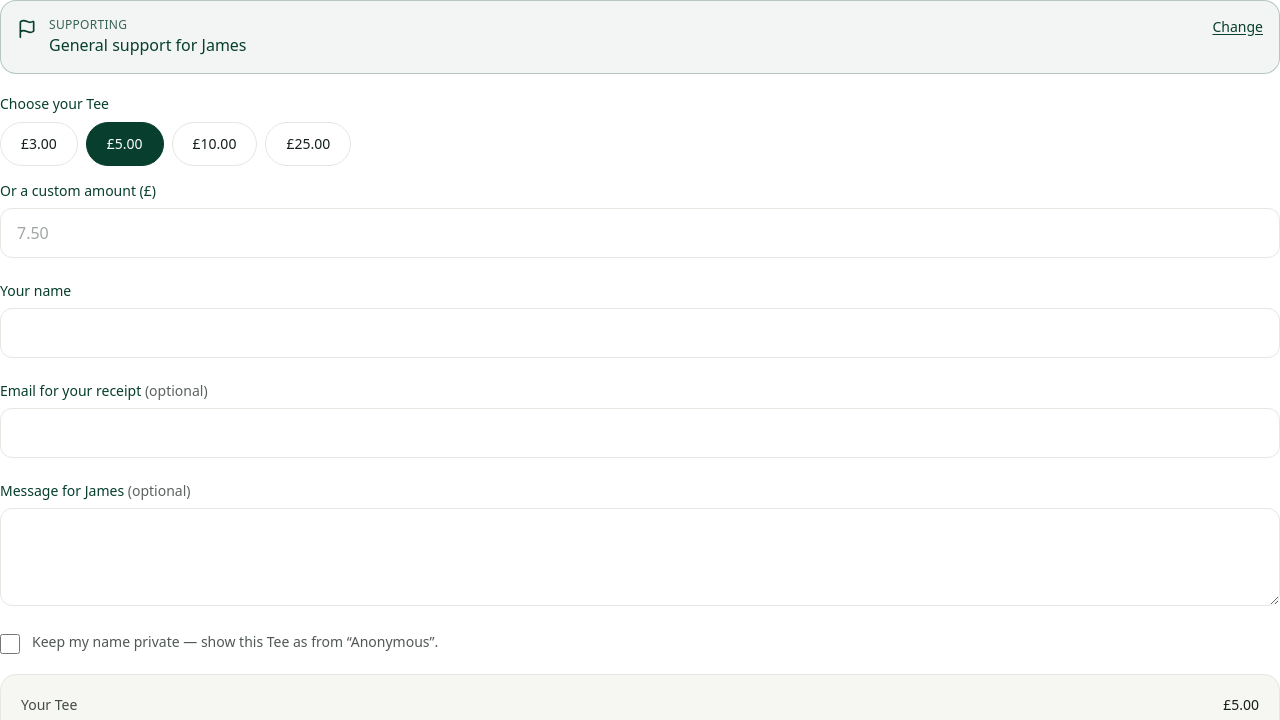
Scenario: GiftComposer target scoping › defaults to general support and can switch to a goal via Change
Expected: the text "General support for James" is shown, [49,34,246,56]
Click the button "Change": (1238, 27) [1212,17,1263,37]
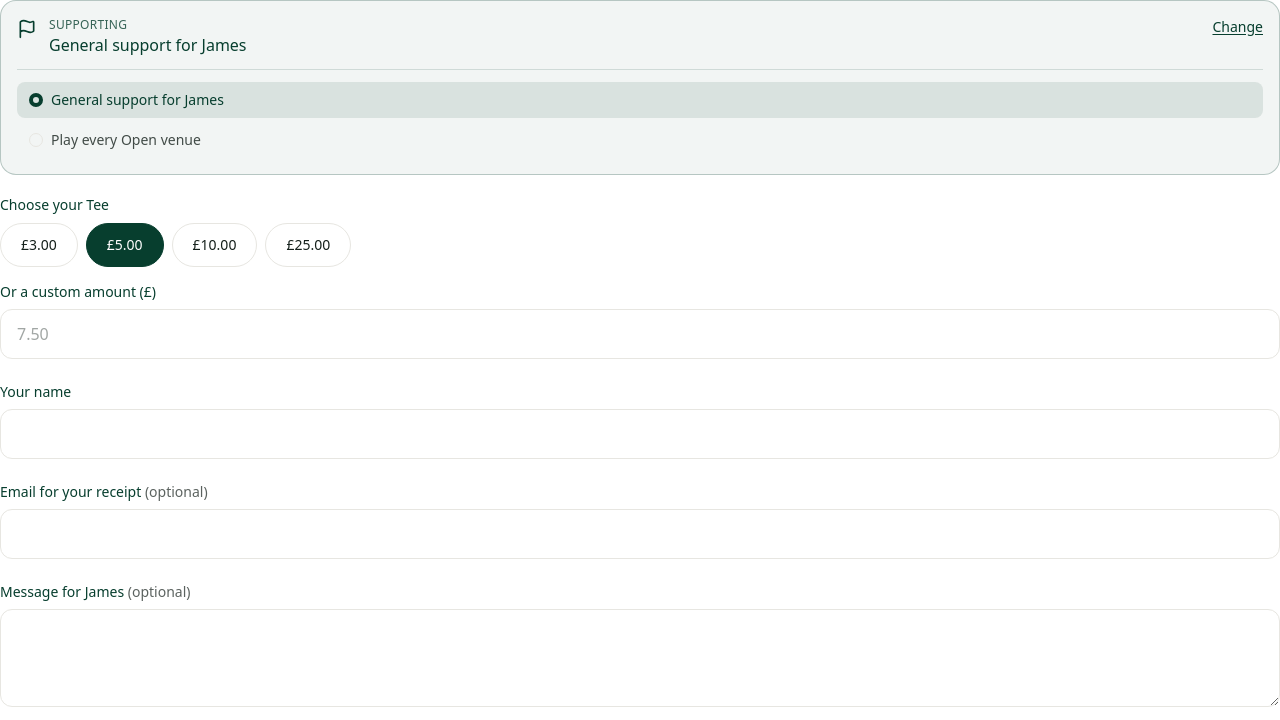
Click the radio button labelled "Play every Open venue": (126, 140) [17,122,1263,158]
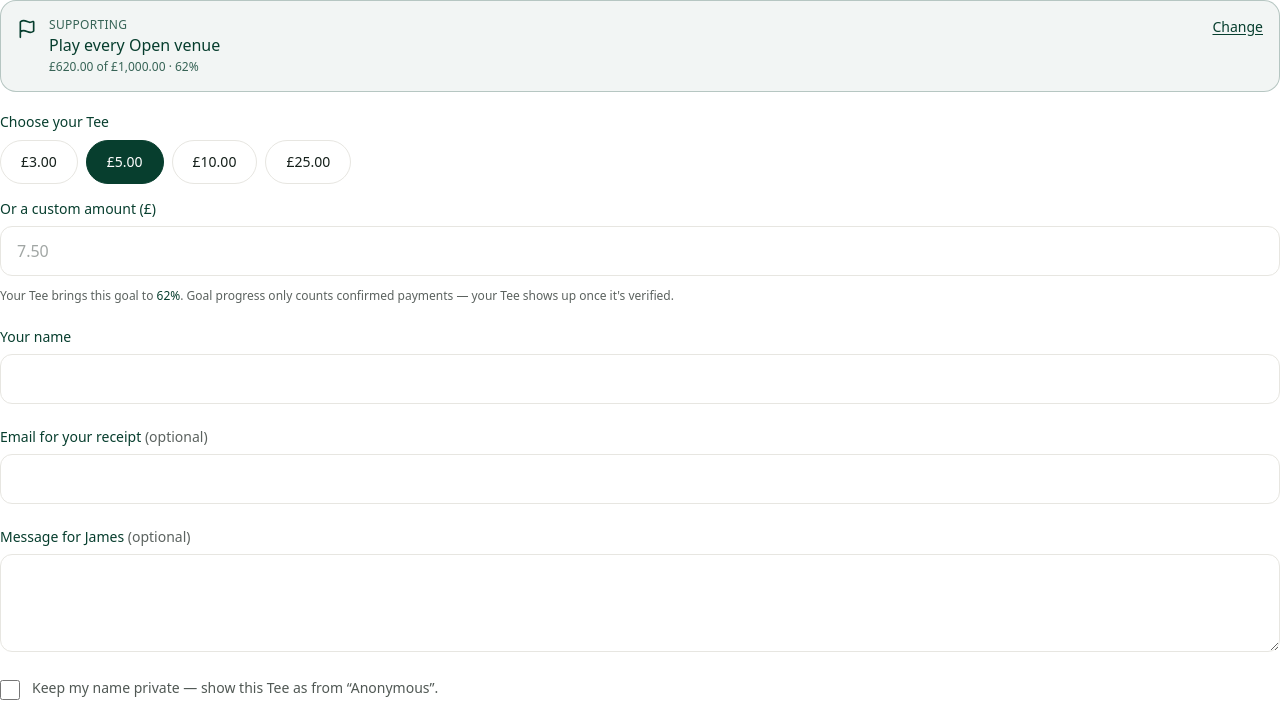
Now the text "Play every Open venue" is shown, box [49,34,220,56]
Now the text "£620.00 of £1,000.00 · 62%" is shown, box [49,58,199,75]
